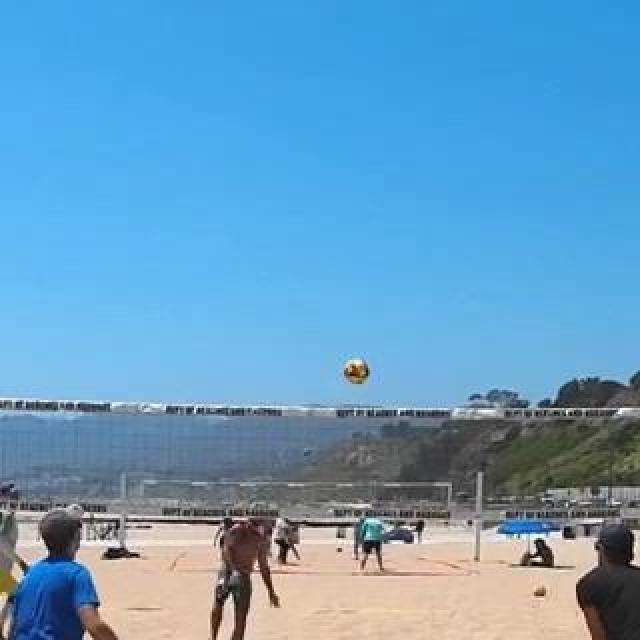volleyball: (345, 358, 371, 384), (533, 585, 547, 597)
